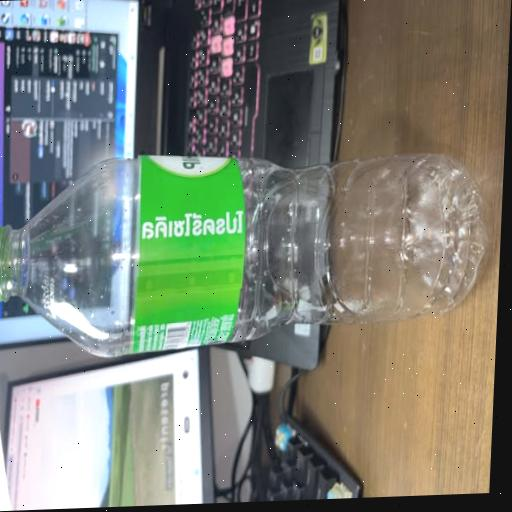bottle: (0, 132, 499, 372)
